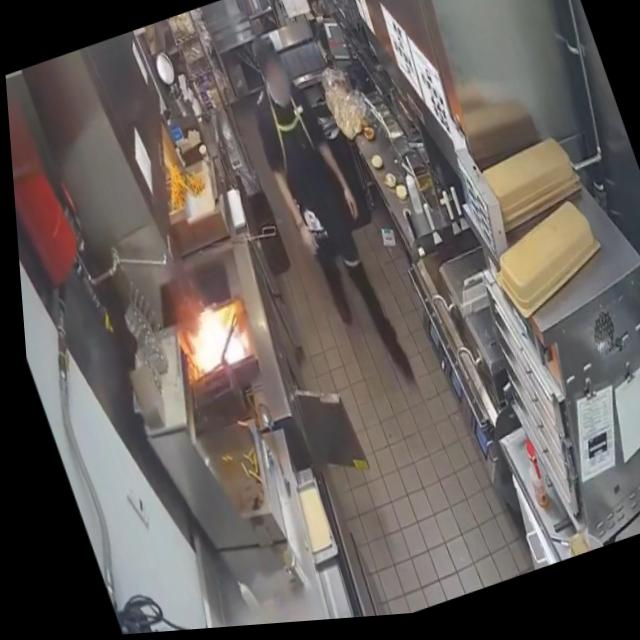fire: (164, 287, 248, 387)
